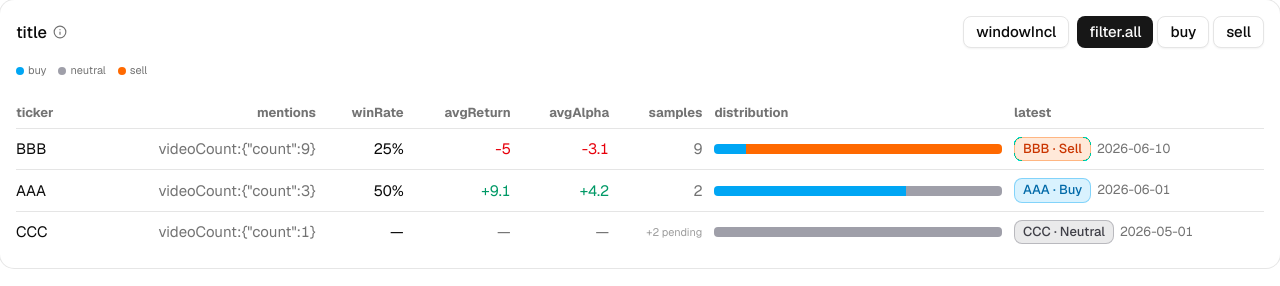
Test: ChannelTickerTable › switches to the inclusive (min-90d) window when 含待定 is toggled
The width and height of the screenshot is (1280, 286).
Expected: the text "50%" is shown, x1=316 y1=170 x2=404 y2=211
Expected: the text "+2 pending" is shown, x1=646 y1=225 x2=702 y2=239
Click the button "windowIncl": point(1016, 32) x1=963 y1=16 x2=1069 y2=48
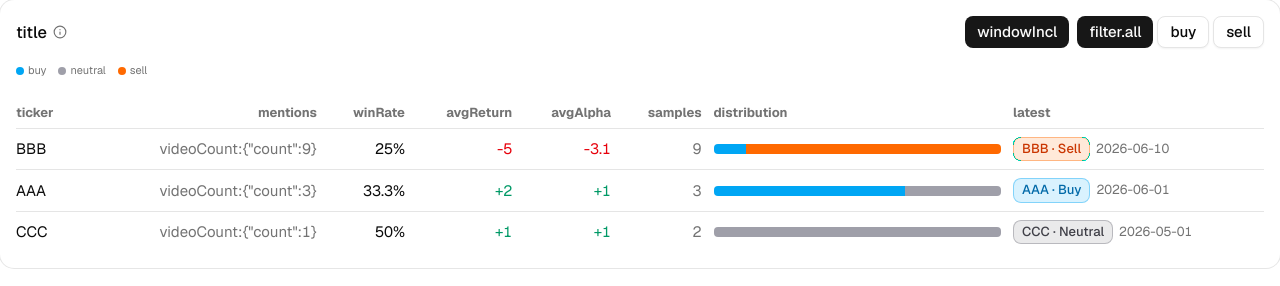
Result: the text "33.3%" is shown at x1=317 y1=170 x2=405 y2=211
Result: the text "50%" is shown at x1=317 y1=211 x2=405 y2=252
